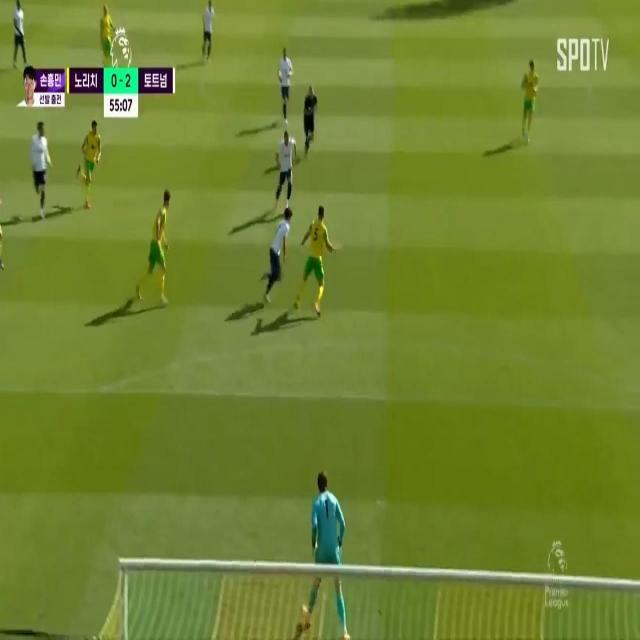goalkeeper: (312, 466, 343, 616)
player: (306, 199, 328, 312), (153, 190, 173, 301), (32, 112, 50, 222), (274, 204, 292, 297), (519, 57, 538, 131), (278, 120, 295, 202), (84, 121, 103, 188), (13, 0, 28, 67), (100, 3, 113, 74), (279, 45, 293, 110), (203, 0, 214, 62)
referee: (304, 85, 321, 143)
